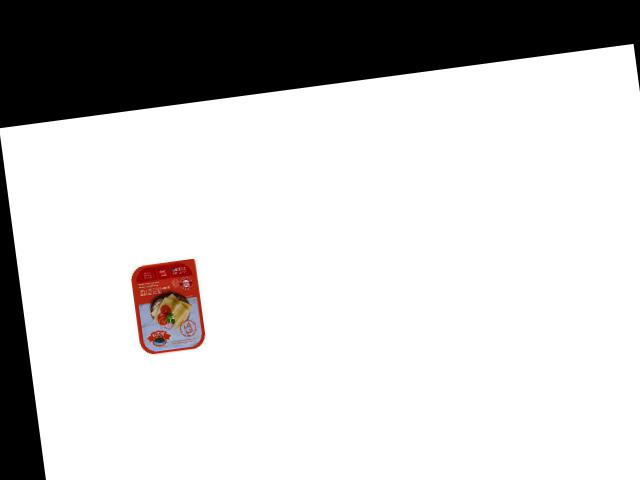cheese: (124, 252, 208, 358)
